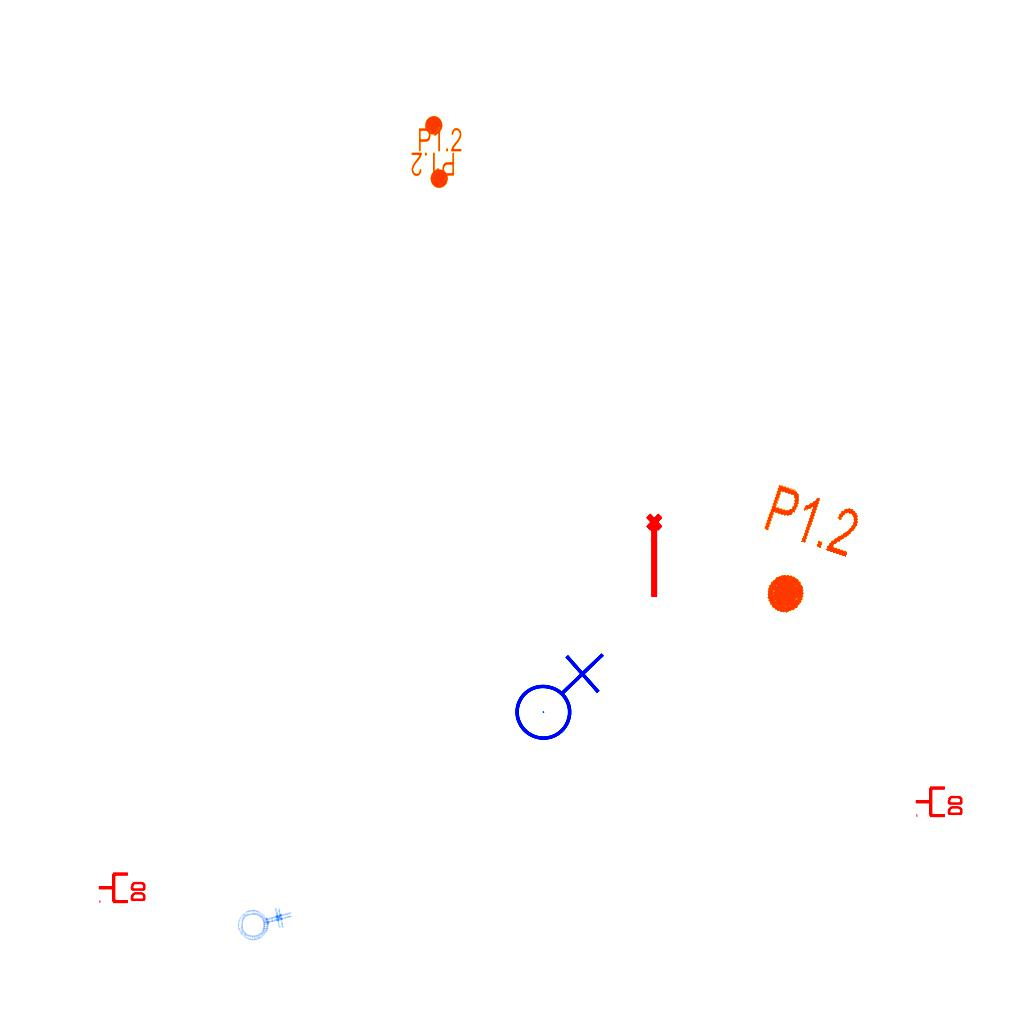ASR_Ansaugoeffnung: (644, 512, 667, 600)
Datenanschluss_zweifach: (97, 870, 148, 904), (914, 784, 965, 818)
Downlight_LED_Einbauleuchten_Flur: (735, 479, 866, 631), (410, 114, 456, 178), (417, 126, 463, 190)
Elektroanschluss_allgemein_230V_Geraeteanschlussdose_230V: (506, 648, 605, 742), (229, 888, 296, 953)
